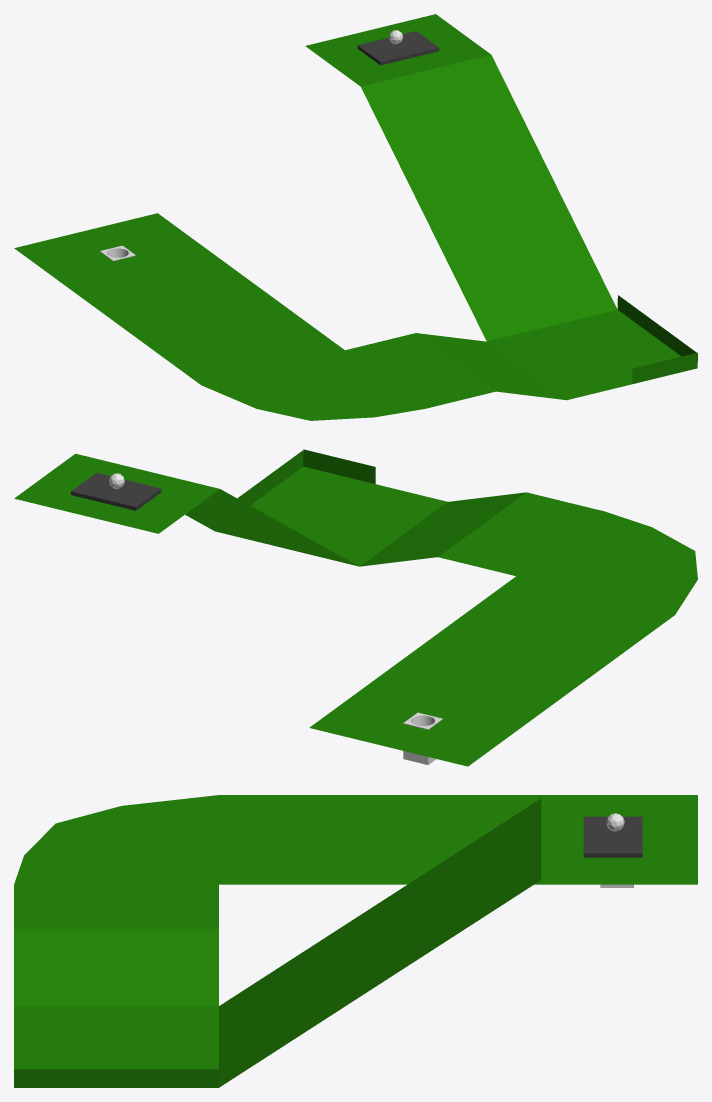
Rendered from boilerplate_level_5.glb.
3 views of the same model, one above another, from view 1: azimuth 30°, elevation 25°; view 2: azimuth 150°, elevation 25°; view 3: azimuth 270°, elevation 25° (orthographic). The views are drawn at different scales.
Parts seen in each view (by area): view 1: Plane, Start; view 2: Plane, Start, Cup; view 3: Plane, Start.
Part boxes in pixels (x1,y1,x2,y2): Plane: [14, 14, 697, 420]; Start: [357, 31, 439, 65]; Plane: [14, 449, 697, 766]; Start: [71, 472, 161, 510]; Cup: [403, 712, 442, 764]; Plane: [14, 795, 697, 1087]; Start: [583, 816, 642, 857].
Size of the model in its own units: 55.94 by 24.1 by 62.2.
